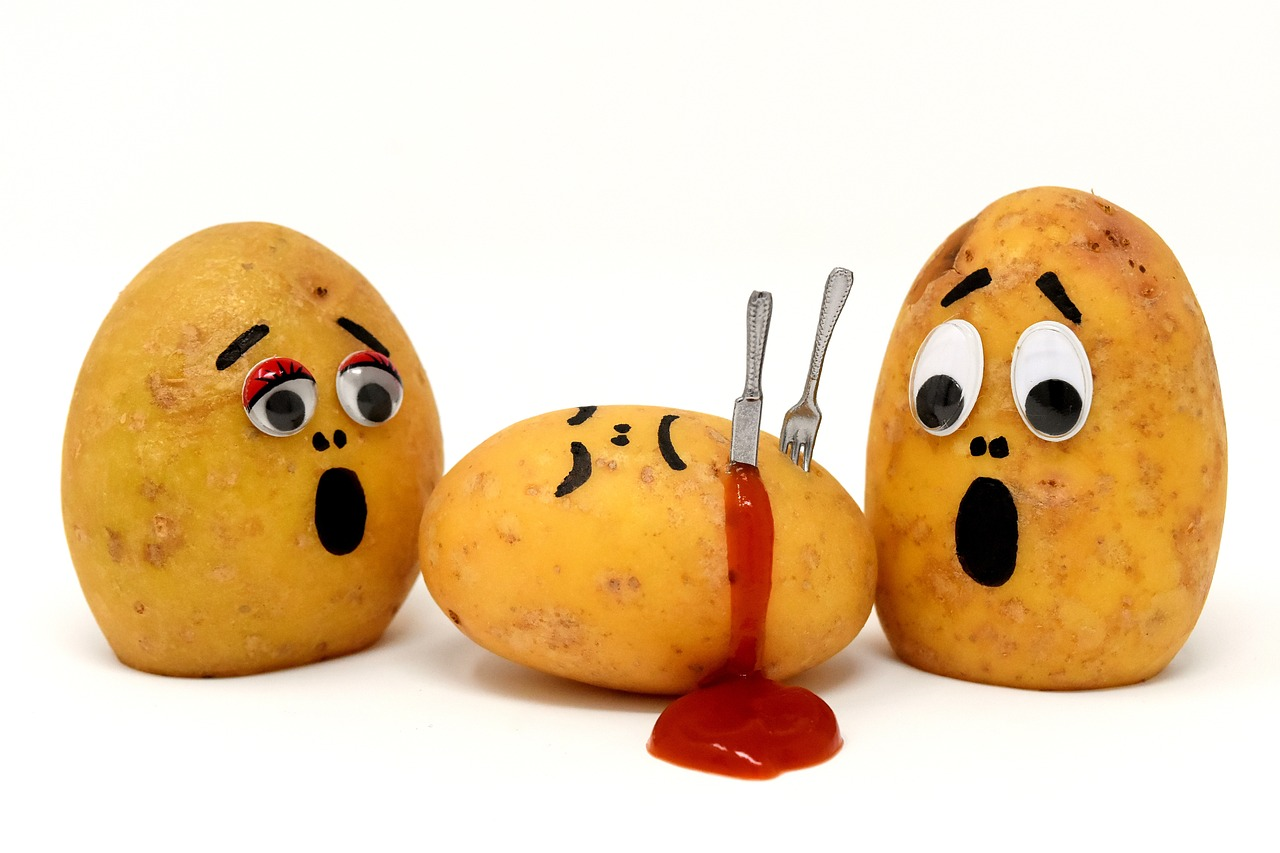knife: (709, 286, 777, 478)
